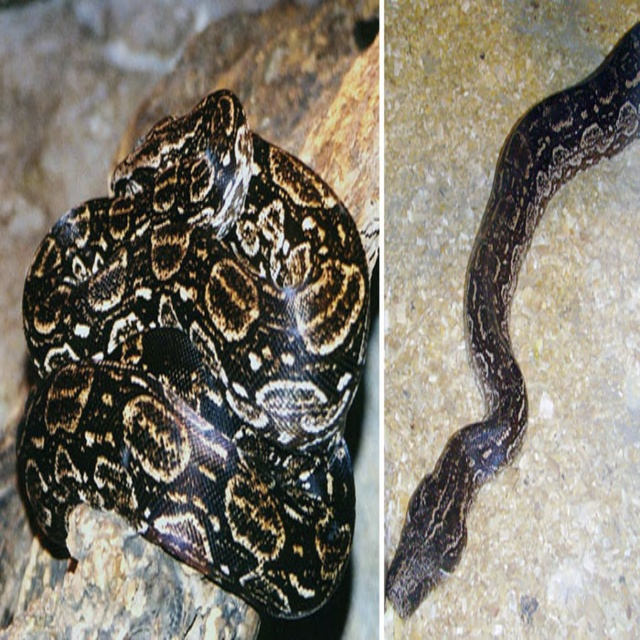Snake: (16, 93, 371, 616), (386, 25, 639, 620)
